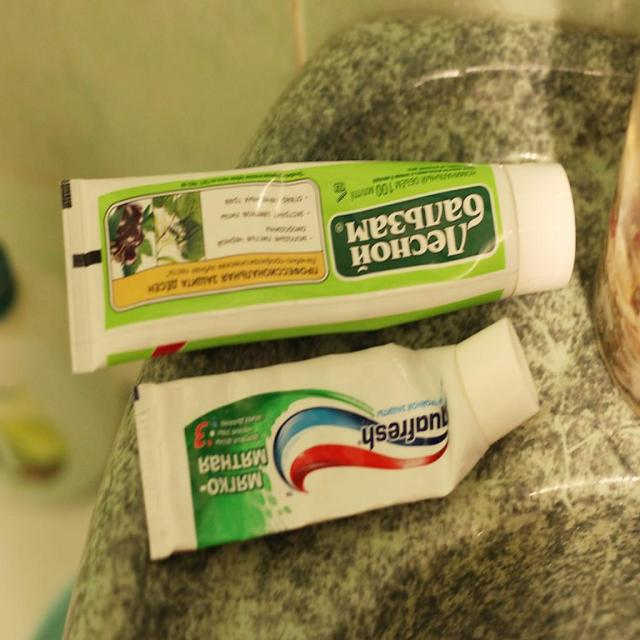Toothpaste: (51, 151, 594, 375), (121, 318, 580, 570)
